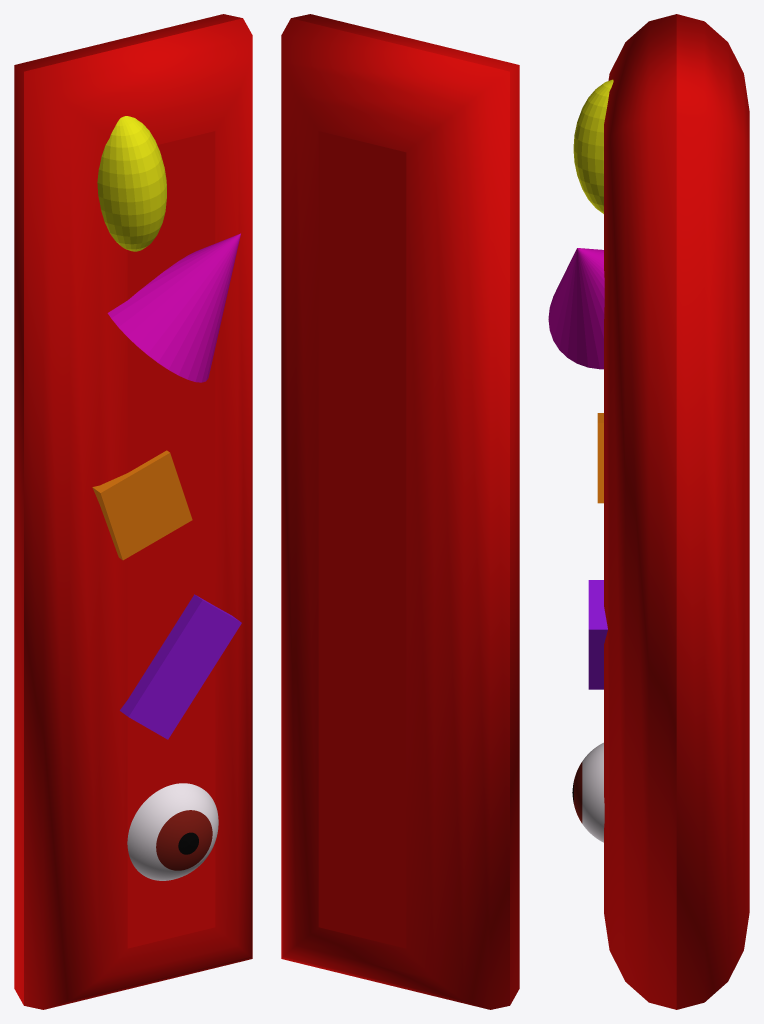
File: l_red.fbx
3 renders of one model, left to right at view 1: azimuth 30°, elevation 25°; view 2: azimuth 150°, elevation 25°; view 3: azimuth 270°, elevation 25°, orthographic. The views are drawn at different scales.
Visible parts, largest first — view 1: Text, Cone, Cube.001, Sphere.002, Sphere, Cube; view 2: Text; view 3: Text, Cone, Sphere.002, Sphere, Cube.001, Cube.
Part boxes in pixels (x1,y1,x2,y2): Text: (14, 14, 252, 1009); Cone: (107, 233, 240, 382); Cube.001: (120, 594, 241, 739); Sphere.002: (97, 116, 166, 251); Sphere: (127, 783, 218, 880); Cube: (92, 450, 192, 560); Text: (281, 14, 519, 1009); Text: (604, 14, 749, 1009); Cone: (548, 248, 604, 369); Sphere.002: (573, 79, 613, 213); Sphere: (572, 742, 604, 842); Cube.001: (588, 580, 607, 689); Cube: (597, 413, 603, 503).
Bounding box in the file's own units: 19.3 × 78.6 × 16.03.
